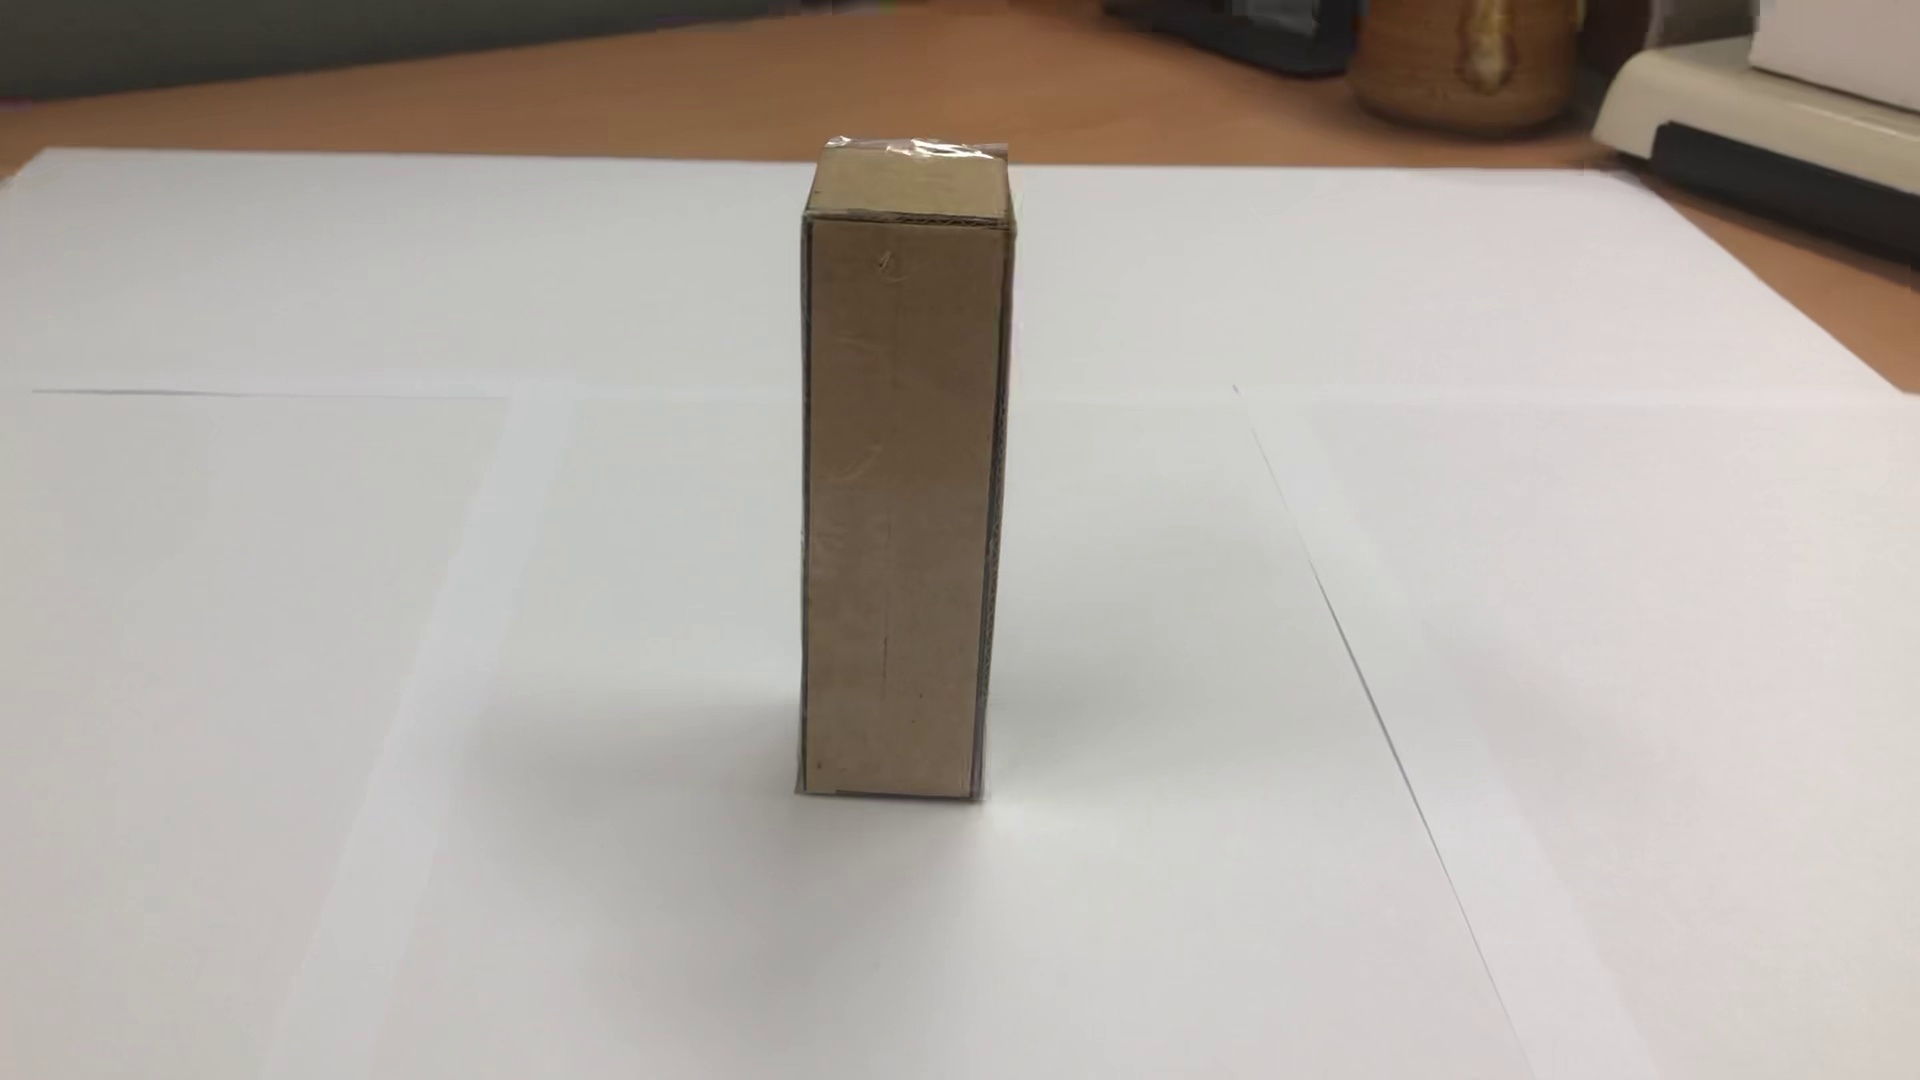box: (767, 98, 1043, 852)
